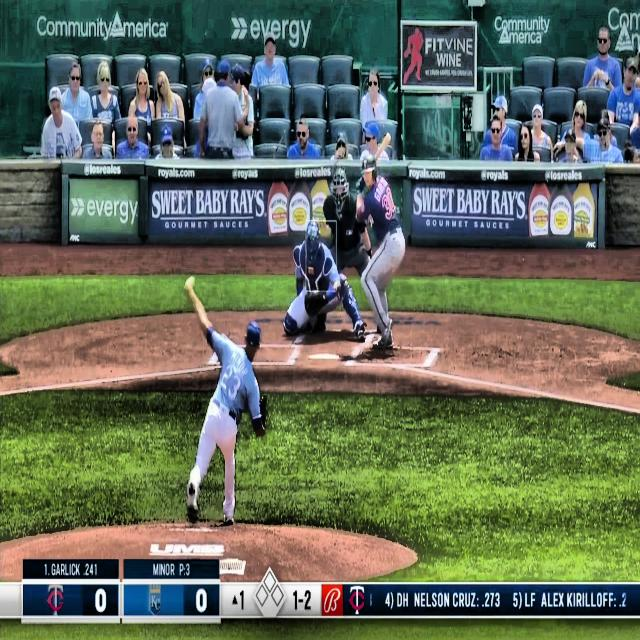baseball: (184, 275, 195, 289)
